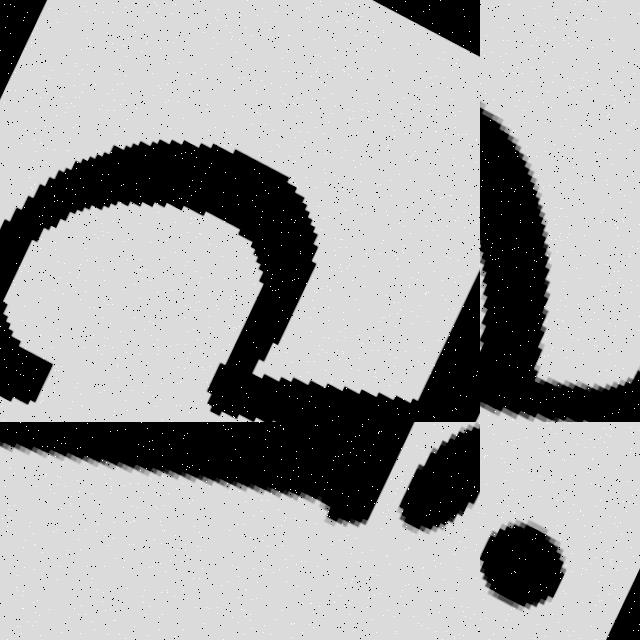5: (0, 0, 480, 422), (480, 0, 640, 422)
I: (0, 422, 480, 640)
J: (480, 422, 598, 640)
